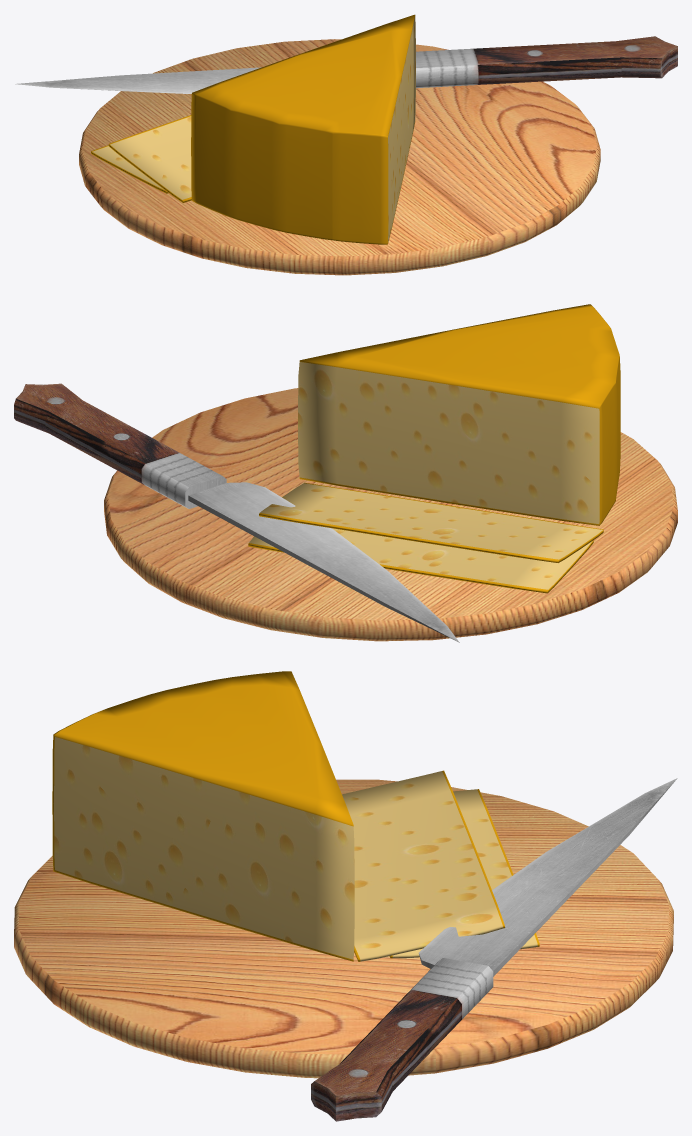
The model's file is queijo.glb.
3 renders of one model, top to bottom at view 1: azimuth 30°, elevation 25°; view 2: azimuth 150°, elevation 25°; view 3: azimuth 270°, elevation 25°, orthographic. The views are drawn at different scales.
Parts seen in each view (by area): view 1: Tabua, Queijo, Faca, QJ_Ft_tp, QJ_Ft_bt; view 2: Queijo, Tabua, Faca, QJ_Ft_tp, QJ_Ft_bt; view 3: Tabua, Queijo, Faca, QJ_Ft_tp, QJ_Ft_bt.
Boxes of the visible parts, left/top/right/bottom form: Tabua: left=79, top=39, right=600, bottom=275; Queijo: left=191, top=14, right=415, bottom=244; Faca: left=15, top=36, right=677, bottom=93; QJ_Ft_tp: left=108, top=115, right=191, bottom=202; QJ_Ft_bt: left=91, top=145, right=168, bottom=193; Queijo: left=298, top=304, right=620, bottom=525; Tabua: left=104, top=388, right=677, bottom=641; Faca: left=14, top=383, right=459, bottom=642; QJ_Ft_tp: left=259, top=482, right=603, bottom=562; QJ_Ft_bt: left=248, top=528, right=593, bottom=593; Tabua: left=14, top=779, right=673, bottom=1078; Queijo: left=52, top=671, right=354, bottom=961; Faca: left=311, top=778, right=677, bottom=1121; QJ_Ft_tp: left=342, top=770, right=505, bottom=961; QJ_Ft_bt: left=389, top=789, right=539, bottom=958.
Bounding box in the file's own units: 0.9649 × 0.2193 × 0.7805.
4 materials, 3 textured.
